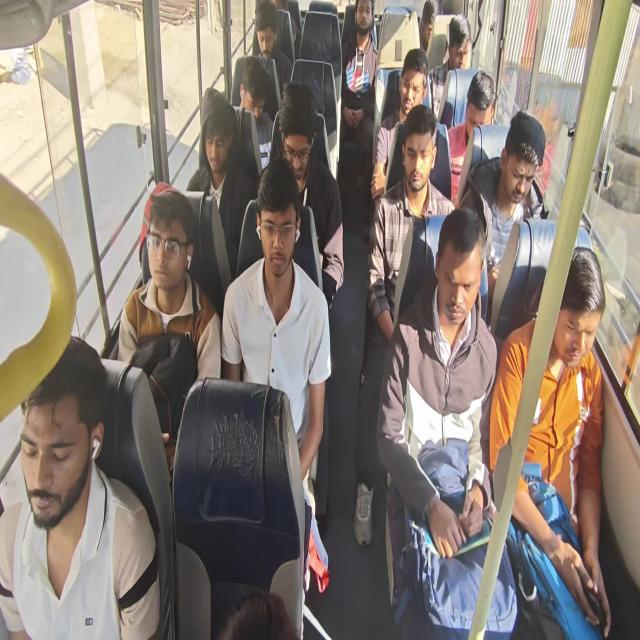person: (2, 1, 621, 638), (376, 207, 518, 638), (0, 334, 160, 639), (220, 158, 332, 592), (488, 246, 611, 636), (353, 104, 457, 546), (117, 182, 221, 476), (459, 109, 546, 322), (268, 83, 344, 310), (185, 88, 257, 300), (338, 0, 379, 224), (370, 48, 430, 201), (446, 69, 496, 202), (424, 13, 472, 120), (236, 61, 274, 170), (253, 0, 293, 101), (418, 0, 441, 53)
